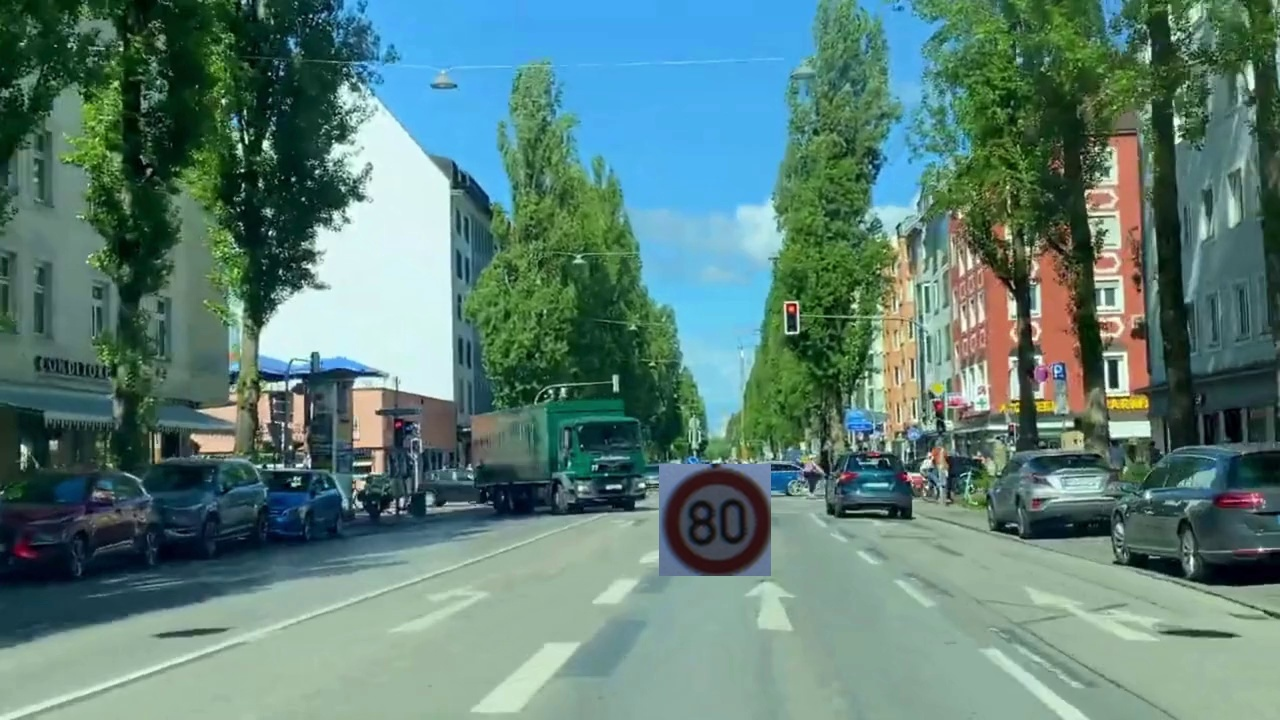Speed 80: (659, 464, 771, 576)
